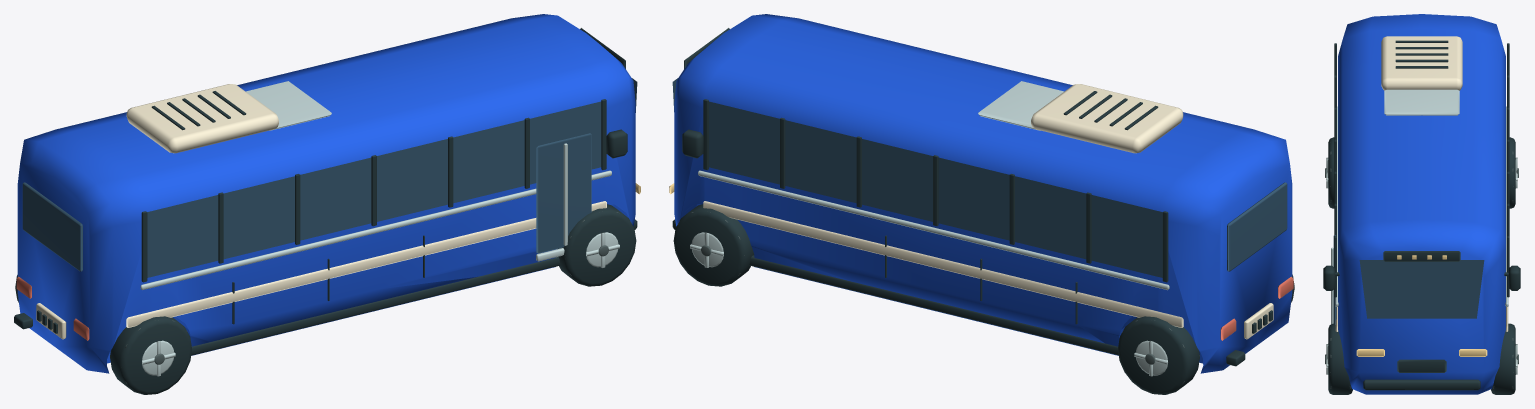
The model's file is coach.glb.
The picture shows the model from 3 angles, left to right: view 1: azimuth 30°, elevation 25°; view 2: azimuth 150°, elevation 25°; view 3: azimuth 270°, elevation 25°; orthographic projection. The views are drawn at different scales.
Parts seen in each view (by area): view 1: Paint coach, Opaque blue glass.006, Warm white trim.006, Rolling wheels.006, Tyre rubber.006, Wheel hubs.006; view 2: Paint coach, Opaque blue glass.006, Warm white trim.006, Rolling wheels.006, Tyre rubber.006, Wheel hubs.006; view 3: Paint coach, Opaque blue glass.006, Tyre rubber.006, Warm white trim.006, Rolling wheels.006, Wheel hubs.006, Headlamp.006.
Boxes of the visible parts, x1=… form: Paint coach: x1=17, y1=14, x2=635, y2=373; Opaque blue glass.006: x1=22, y1=78, x2=637, y2=277; Warm white trim.006: x1=36, y1=84, x2=606, y2=339; Rolling wheels.006: x1=15, y1=204, x2=636, y2=394; Tyre rubber.006: x1=14, y1=28, x2=637, y2=355; Wheel hubs.006: x1=140, y1=81, x2=611, y2=289; Paint coach: x1=674, y1=14, x2=1292, y2=373; Opaque blue glass.006: x1=672, y1=78, x2=1287, y2=277; Warm white trim.006: x1=703, y1=84, x2=1273, y2=339; Rolling wheels.006: x1=673, y1=204, x2=1294, y2=394; Tyre rubber.006: x1=672, y1=28, x2=1272, y2=366; Wheel hubs.006: x1=698, y1=81, x2=1169, y2=290; Paint coach: x1=1338, y1=14, x2=1505, y2=394; Opaque blue glass.006: x1=1333, y1=235, x2=1484, y2=324; Tyre rubber.006: x1=1323, y1=40, x2=1520, y2=390; Warm white trim.006: x1=1335, y1=36, x2=1508, y2=331; Rolling wheels.006: x1=1325, y1=137, x2=1518, y2=394; Wheel hubs.006: x1=1331, y1=89, x2=1508, y2=324; Headlamp.006: x1=1356, y1=255, x2=1487, y2=356.
Size of the model in its own units: 2.95 by 1.12 by 1.04.
